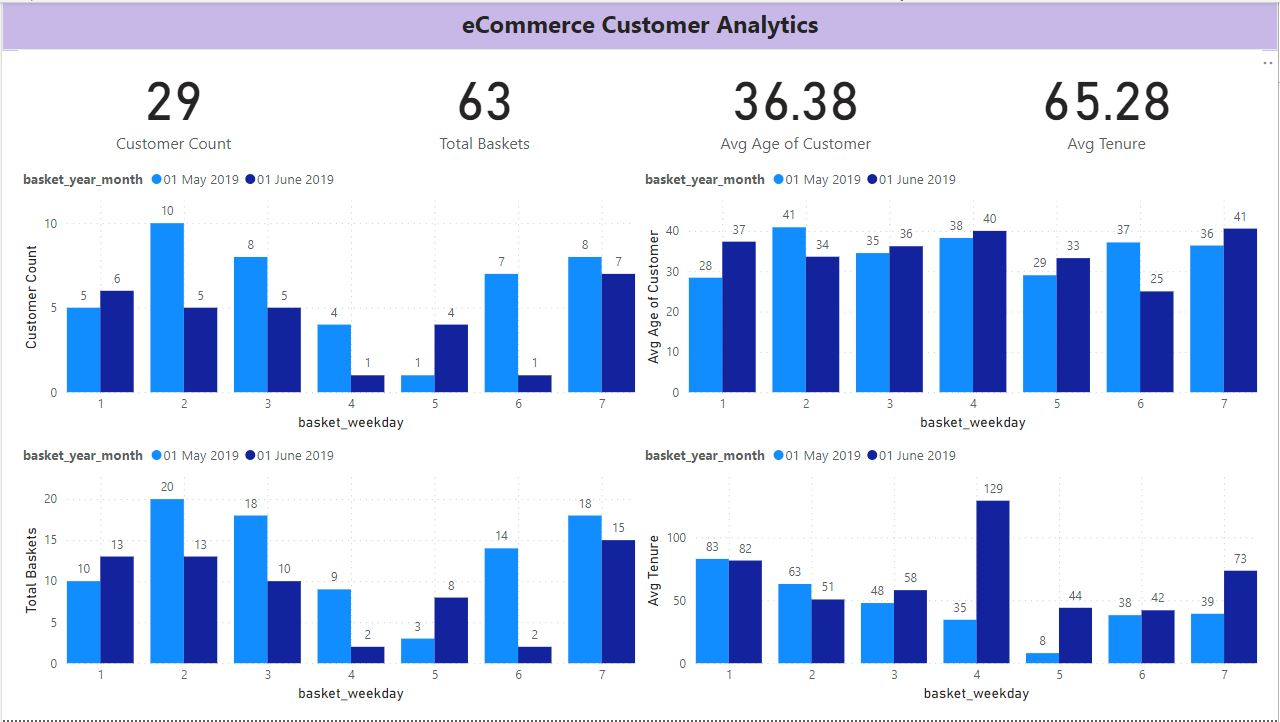

This screenshot's page, from the dashboard's own definition file:
{"tool":"powerbi","page":{"name":"Page 1","canvas":[1280,720],"ordinal":0},"visuals":[{"type":"textbox","box":[0,0,1280,48.6],"z":0},{"type":"clusteredColumnChart","fields":{"Category":["ecommerce_customer_combined.basket_weekday"],"Y":["ecommerce_customer_combined.Customer Count"],"Series":["ecommerce_customer_combined.basket_year_month"]},"box":[16.1,157.5,623.9,276.9],"z":1000},{"type":"clusteredColumnChart","fields":{"Category":["ecommerce_customer_combined.basket_weekday"],"Series":["ecommerce_customer_combined.basket_year_month"],"Y":["ecommerce_customer_combined.Avg Age of Customer"]},"box":[640,157.5,623.9,276.9],"z":2000},{"type":"clusteredColumnChart","fields":{"Category":["ecommerce_customer_combined.basket_weekday"],"Series":["ecommerce_customer_combined.basket_year_month"],"Y":["ecommerce_customer_combined.Avg Tenure"]},"box":[640,434.4,623.9,271.8],"z":3000},{"type":"clusteredColumnChart","fields":{"Category":["ecommerce_customer_combined.basket_weekday"],"Series":["ecommerce_customer_combined.basket_year_month"],"Y":["ecommerce_customer_combined.Total Baskets"]},"box":[16.1,434.4,623.9,271.8],"z":4000},{"type":"card","fields":{"Values":["ecommerce_customer_combined.Customer Count"]},"box":[16.1,48.2,312,109.3],"z":5000},{"type":"card","fields":{"Values":["ecommerce_customer_combined.Total Baskets"]},"box":[328,48.2,312,109.3],"z":5001},{"type":"card","fields":{"Values":["ecommerce_customer_combined.Avg Age of Customer"]},"box":[640,48.2,312,109.3],"z":5002},{"type":"card","fields":{"Values":["ecommerce_customer_combined.Avg Tenure"]},"box":[952,48.2,312,109.3],"z":5003}]}

Visuals, with their boxes in screenshot pixels (x1, y1, x2, y2), scaled from the page's 1280x720 canvas onto the 1280x722 screenshot:
textbox: box=[0, 0, 1279, 49]
clusteredColumnChart - ecommerce_customer_combined.basket_weekday x ecommerce_customer_combined.Customer Count: box=[16, 158, 640, 436]
clusteredColumnChart - ecommerce_customer_combined.basket_weekday x ecommerce_customer_combined.basket_year_month: box=[640, 158, 1264, 436]
clusteredColumnChart - ecommerce_customer_combined.basket_weekday x ecommerce_customer_combined.basket_year_month: box=[640, 436, 1264, 708]
clusteredColumnChart - ecommerce_customer_combined.basket_weekday x ecommerce_customer_combined.basket_year_month: box=[16, 436, 640, 708]
card - ecommerce_customer_combined.Customer Count: box=[16, 48, 328, 158]
card - ecommerce_customer_combined.Total Baskets: box=[328, 48, 640, 158]
card - ecommerce_customer_combined.Avg Age of Customer: box=[640, 48, 952, 158]
card - ecommerce_customer_combined.Avg Tenure: box=[952, 48, 1264, 158]
